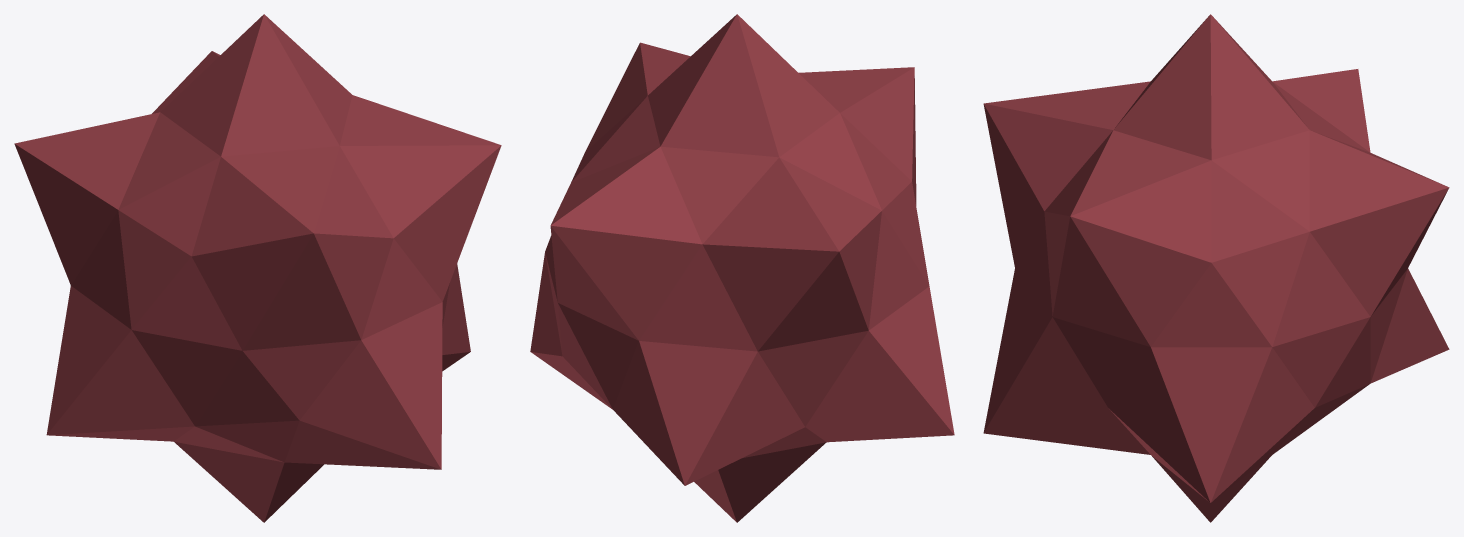
Rendered from 金平糖.fbx.
The picture shows the model from 3 angles, left to right: view 1: azimuth 30°, elevation 25°; view 2: azimuth 150°, elevation 25°; view 3: azimuth 270°, elevation 25°; orthographic projection.
Visible parts, largest first — view 1: ICO球; view 2: ICO球; view 3: ICO球.
Boxes of the visible parts, bbox=[...] form: ICO球: bbox=[14, 14, 501, 522]; ICO球: bbox=[530, 14, 954, 522]; ICO球: bbox=[983, 14, 1449, 522].
Bounding box in the file's own units: 249 × 286 × 237.
